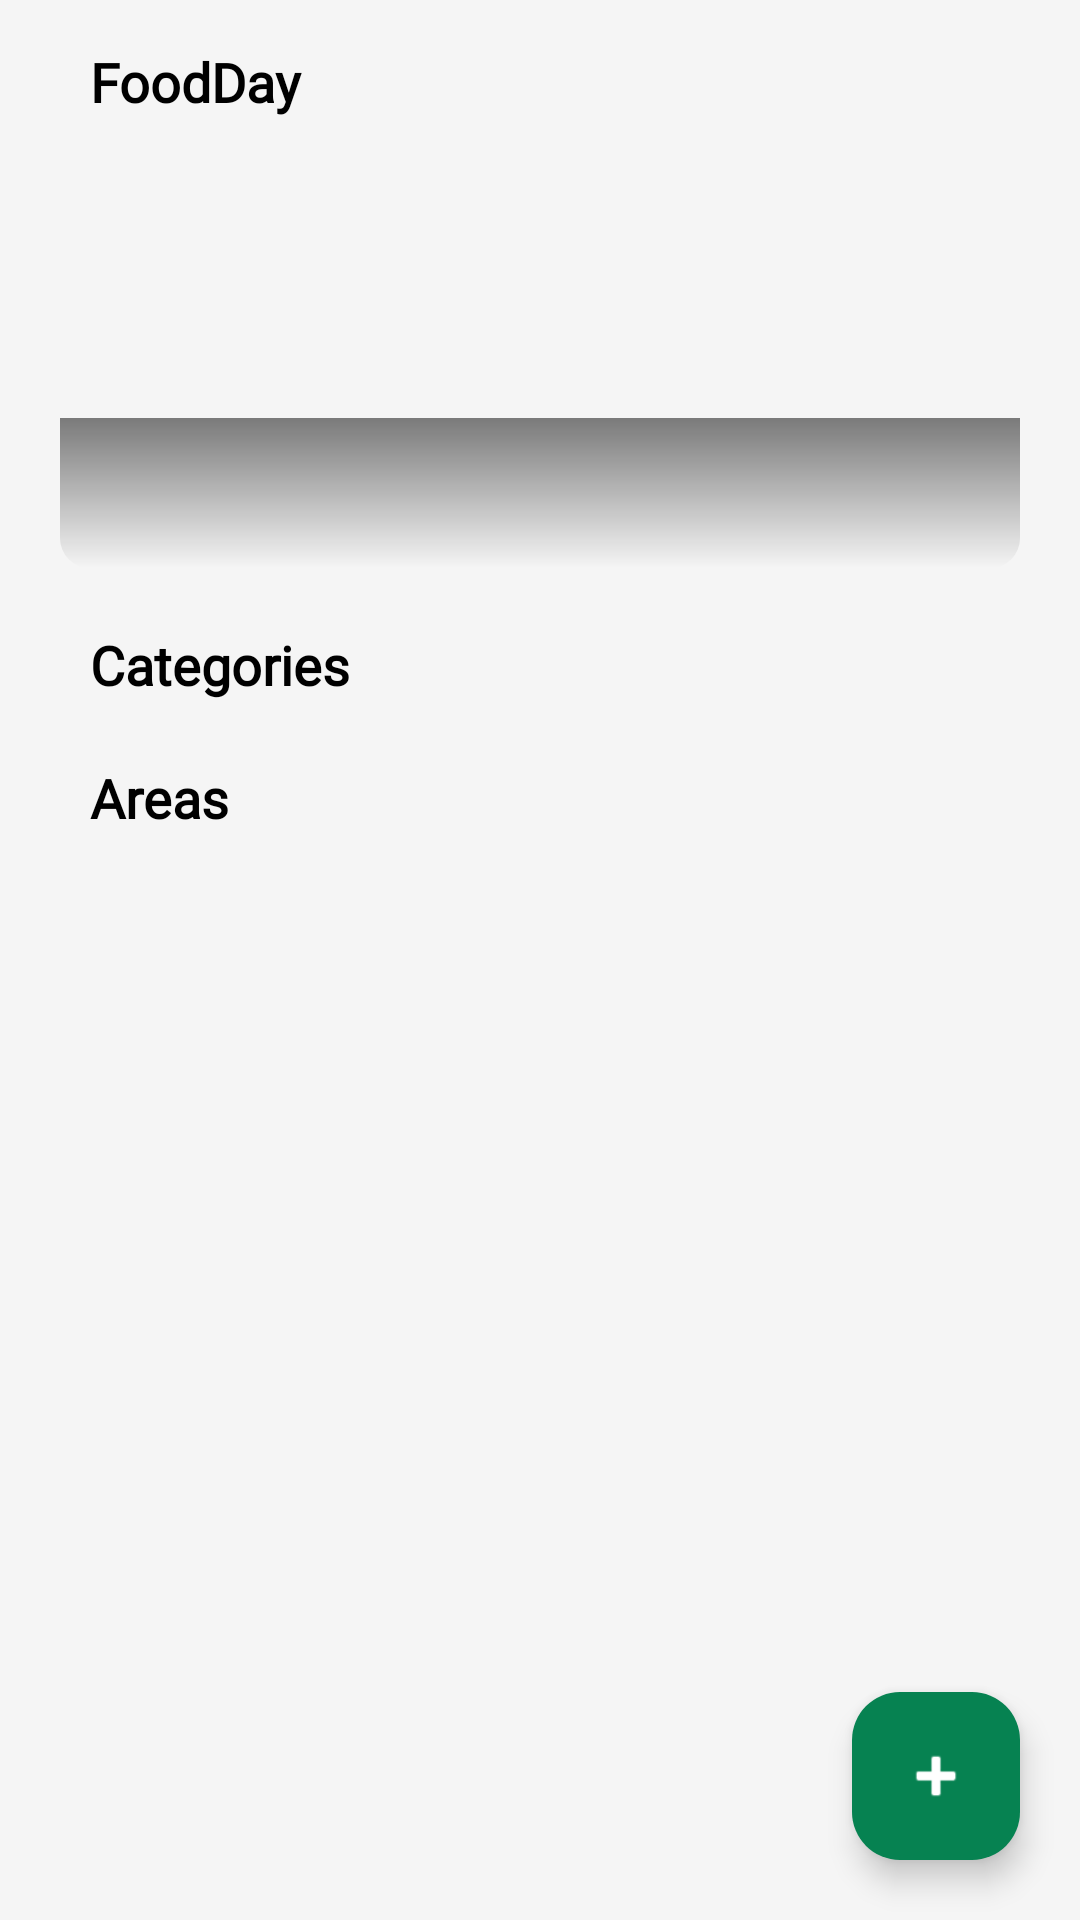

Screen size 1080*1920. Icon name, then its center in pixels as [x,y]:
add: [936,1776]
